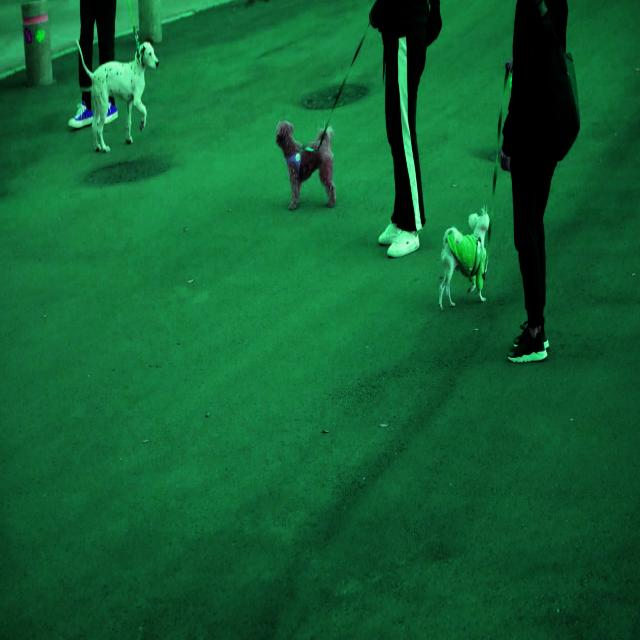Leashed_Dog: (438, 52, 542, 311), (274, 4, 385, 211), (74, 0, 160, 155)
